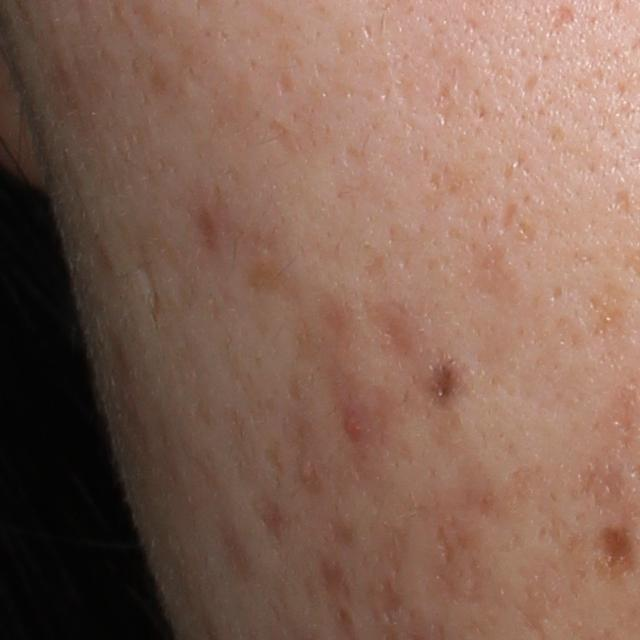atrophic_scar: (363, 298, 428, 368), (427, 510, 485, 567), (574, 456, 629, 516), (310, 547, 356, 603), (362, 576, 413, 625), (248, 492, 287, 545), (594, 521, 634, 570), (136, 260, 163, 323), (546, 1, 579, 37), (613, 188, 637, 222), (502, 203, 522, 234), (275, 69, 296, 97)
papule: (336, 399, 368, 451)
